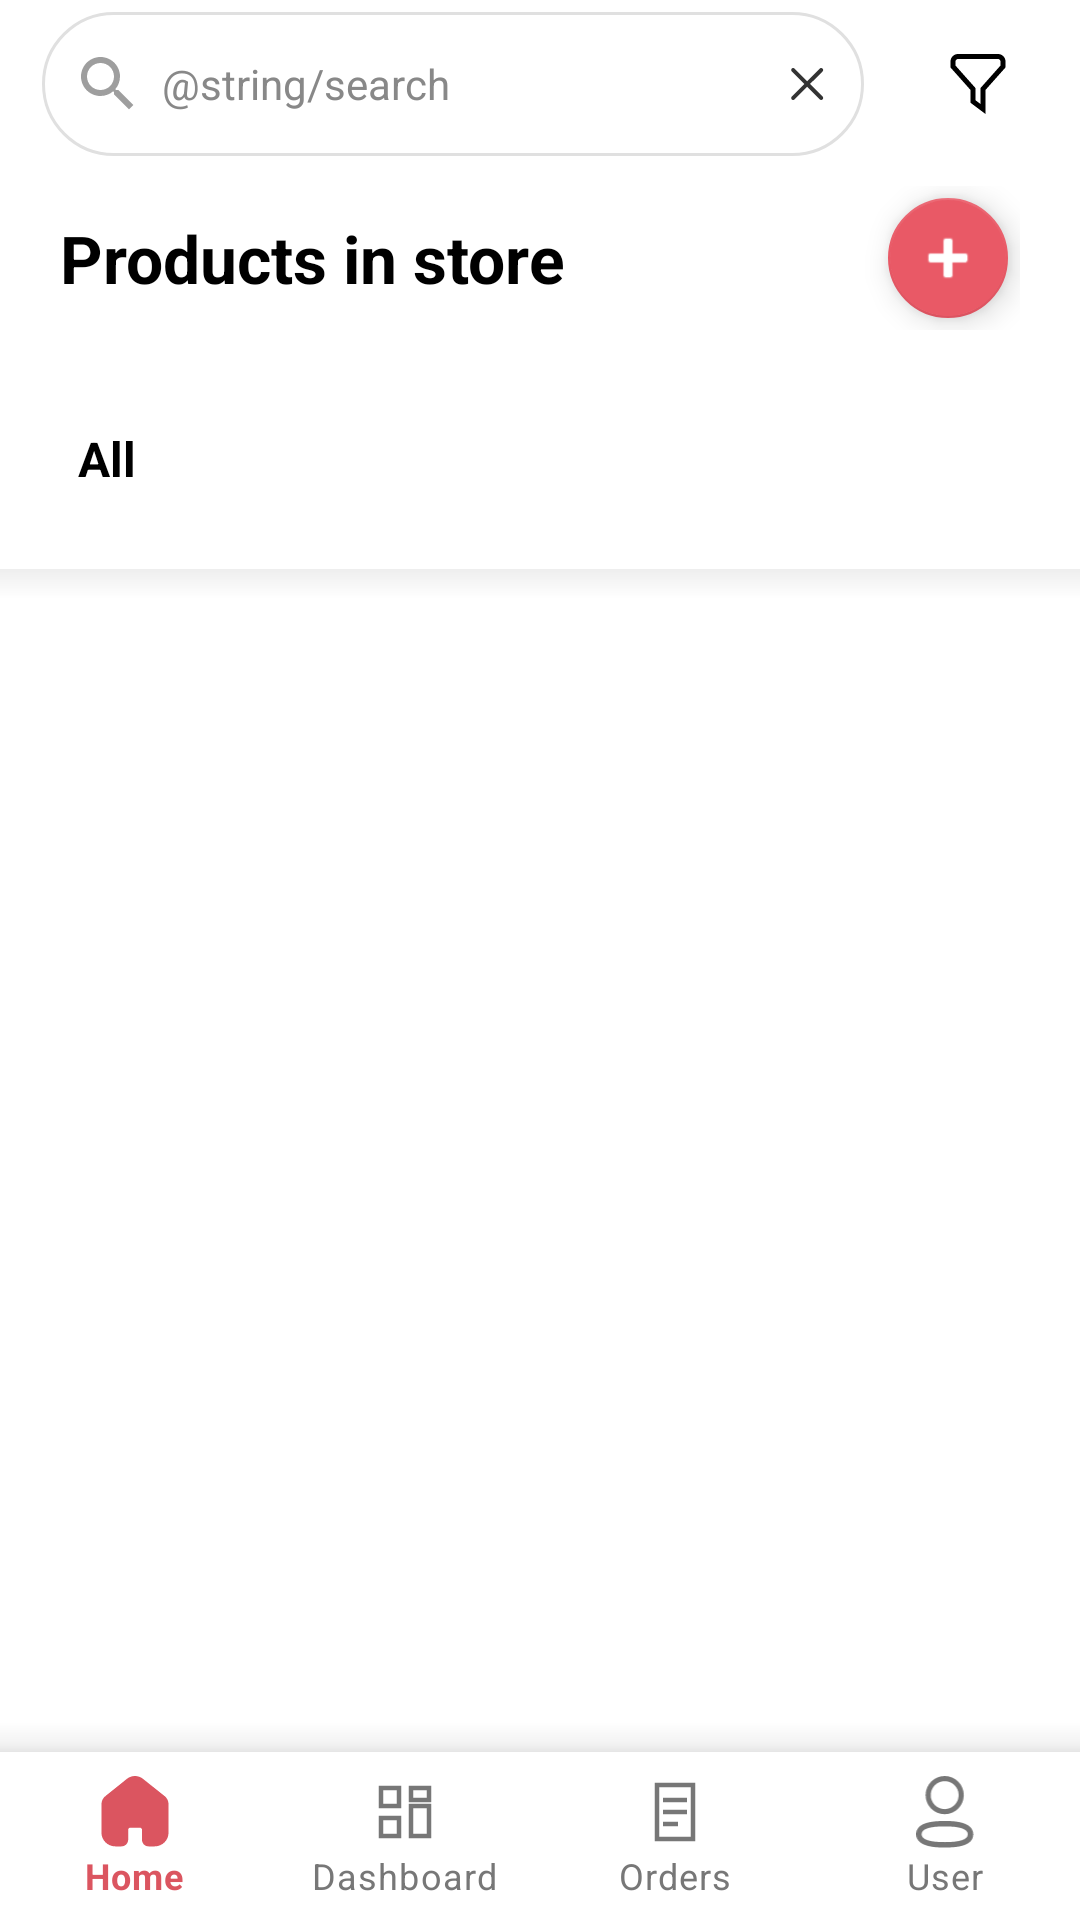

Screen size 1080×1920. Icon name, then its center in pixels as point (x, y):
Add Product: point (949, 258)
Bộ lọc: point (978, 84)
